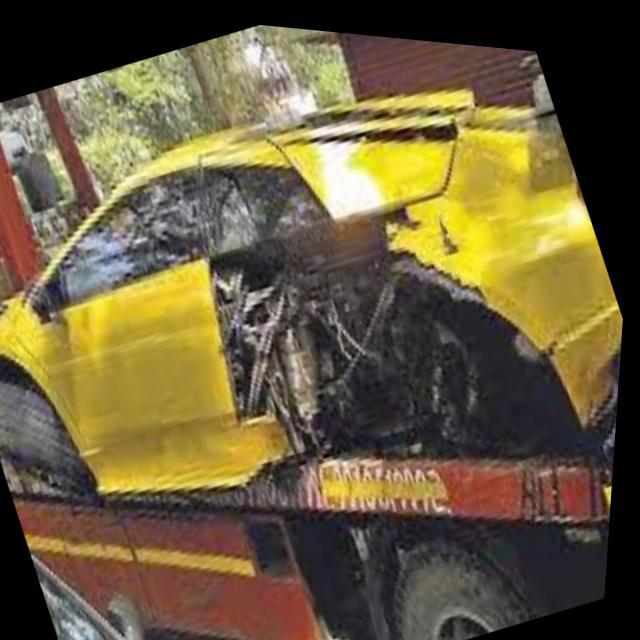no part: (214, 158, 607, 449)
